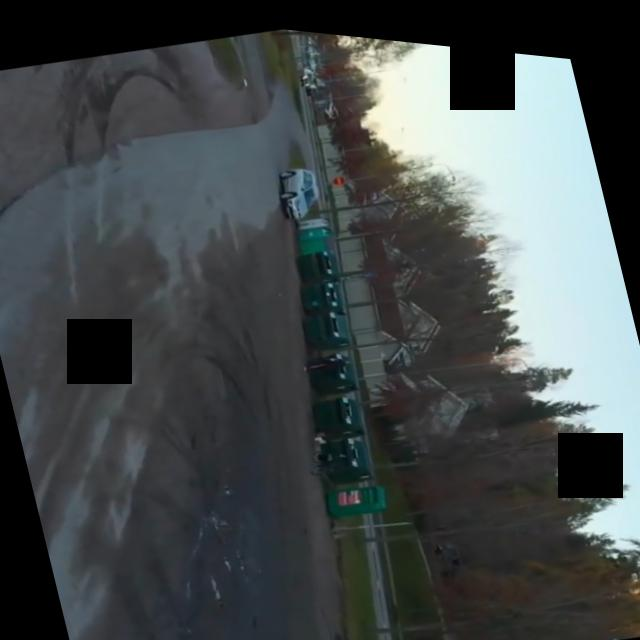Vehicle: (266, 153, 331, 225)
